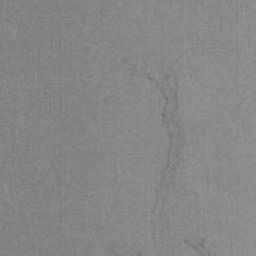Water spot: (118, 52, 212, 256), (110, 243, 143, 256)
